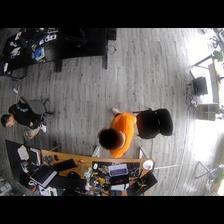normal: (1, 93, 52, 140), (95, 104, 136, 158)
